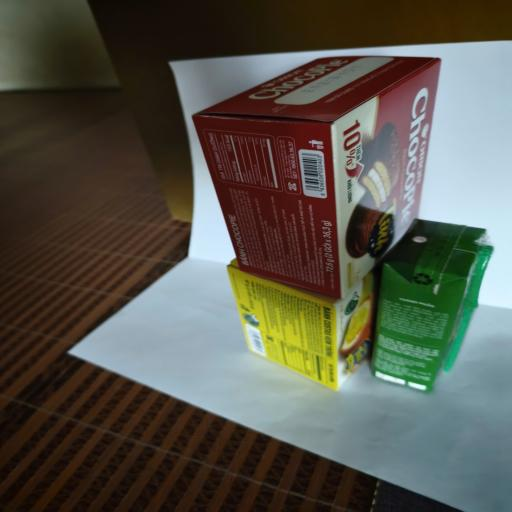chocopie: (192, 55, 442, 299)
custas: (227, 258, 374, 391)
milo: (369, 219, 494, 393)
